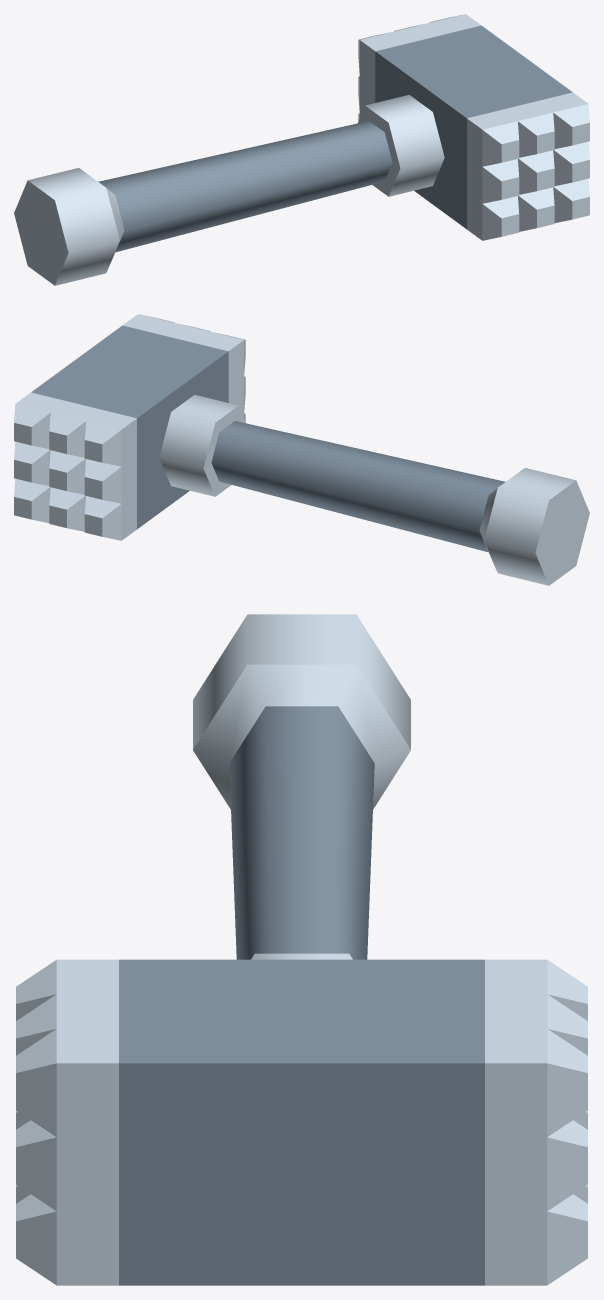
Rendered from meatTenderizer.GLB.
3 views of the same model, one above another, from view 1: azimuth 30°, elevation 25°; view 2: azimuth 150°, elevation 25°; view 3: azimuth 270°, elevation 25° (orthographic). The views are drawn at different scales.
Parts seen in each view (by area): view 1: meatTenderizer; view 2: meatTenderizer; view 3: meatTenderizer.
Boxes of the visible parts, x1,y1,x2,y2 form: meatTenderizer: [14, 14, 589, 285]; meatTenderizer: [14, 314, 589, 585]; meatTenderizer: [16, 614, 587, 1285].
Bounding box in the file's own units: 0.5408 × 0.1182 × 0.2757.
